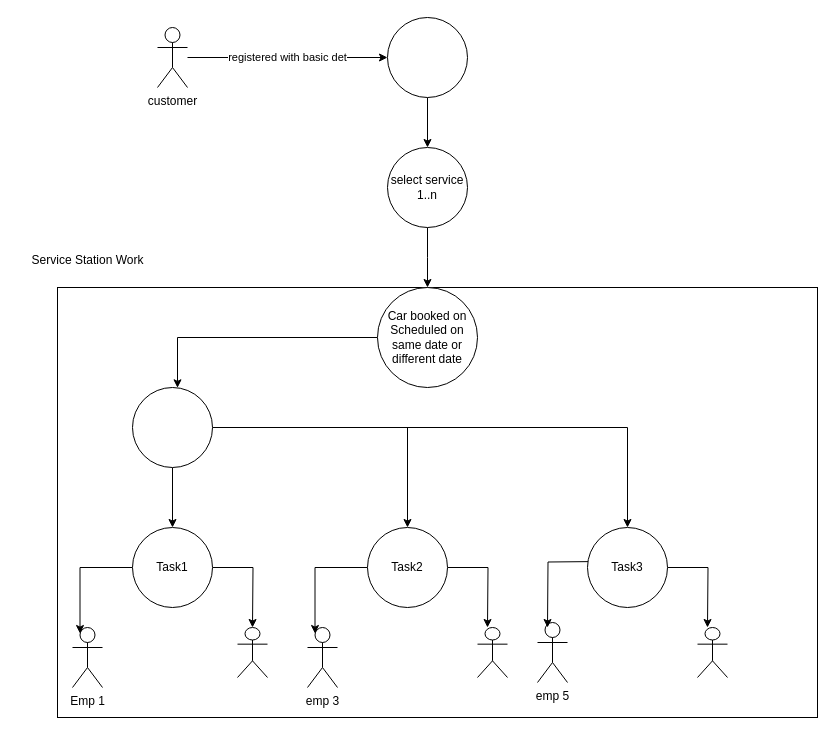
This 835x735 diagram has some shape labels left out. Each missing label, with the box of its shape:
emp 2: (236, 626, 268, 678)
emp 4: (476, 626, 508, 678)
emp 6: (696, 626, 728, 678)
job card: (132, 386, 212, 468)
Registration: (386, 16, 468, 98)
